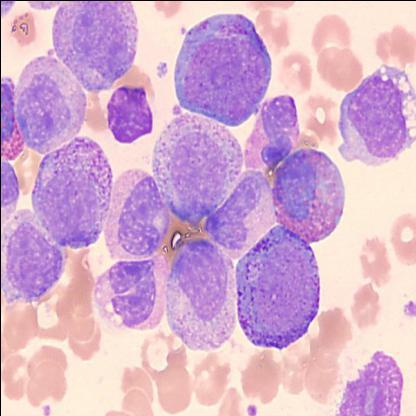Promyelocyte: (172, 10, 270, 126), (151, 114, 245, 226)
